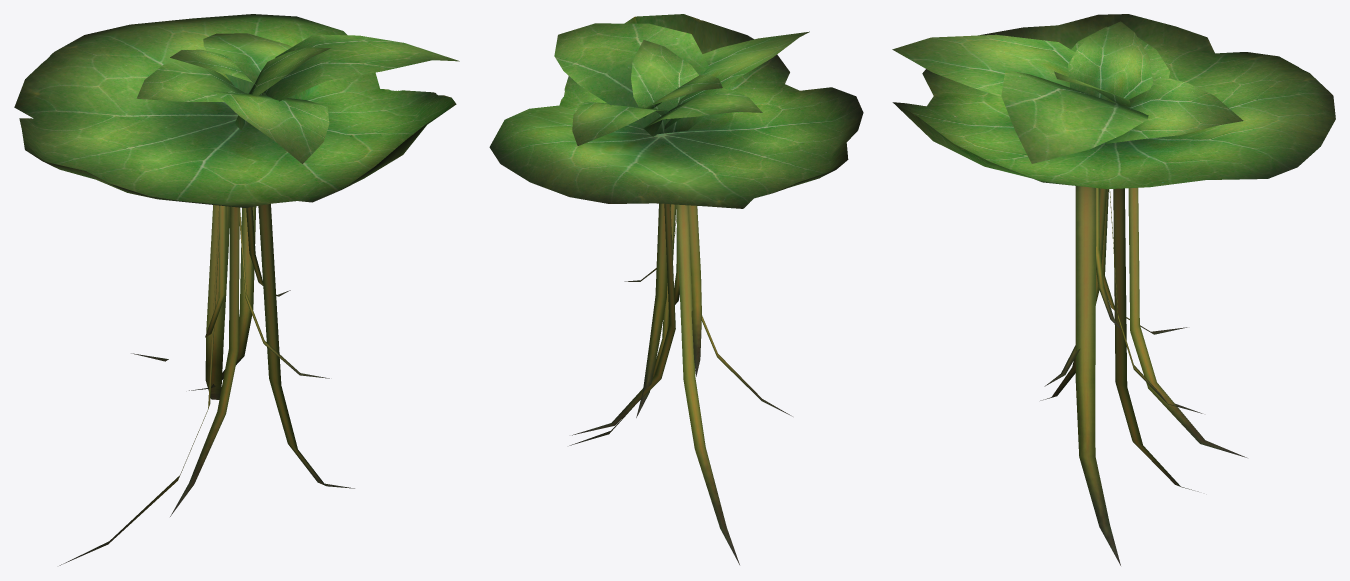
File: leafplant6_lod0.fbx
3 renders of one model, left to right at view 1: azimuth 30°, elevation 25°; view 2: azimuth 150°, elevation 25°; view 3: azimuth 270°, elevation 25°, orthographic. The views are drawn at different scales.
Visible parts, largest first — view 1: Mesh Object; view 2: Mesh Object; view 3: Mesh Object.
Part boxes in pixels (bbox=[...]): Mesh Object: bbox=[14, 14, 459, 565]; Mesh Object: bbox=[489, 14, 863, 564]; Mesh Object: bbox=[892, 14, 1335, 565].
Bounding box in the file's own units: 1.15 × 1.51 × 1.2.
